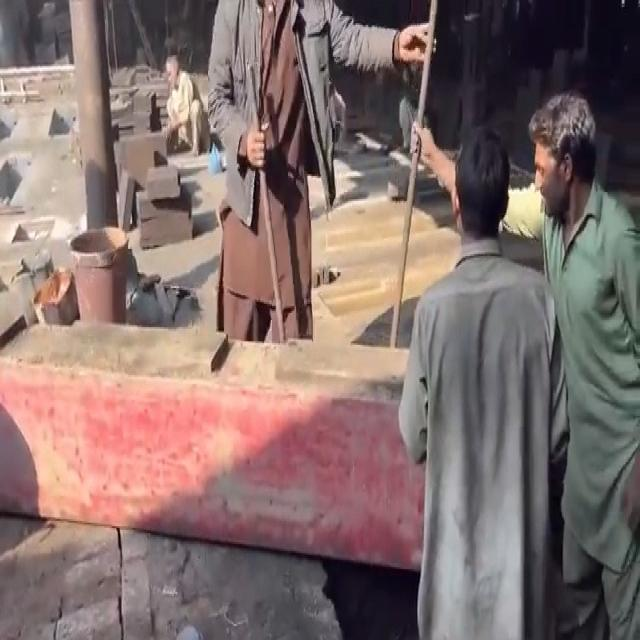dress: (396, 236, 566, 640), (544, 183, 639, 631)
